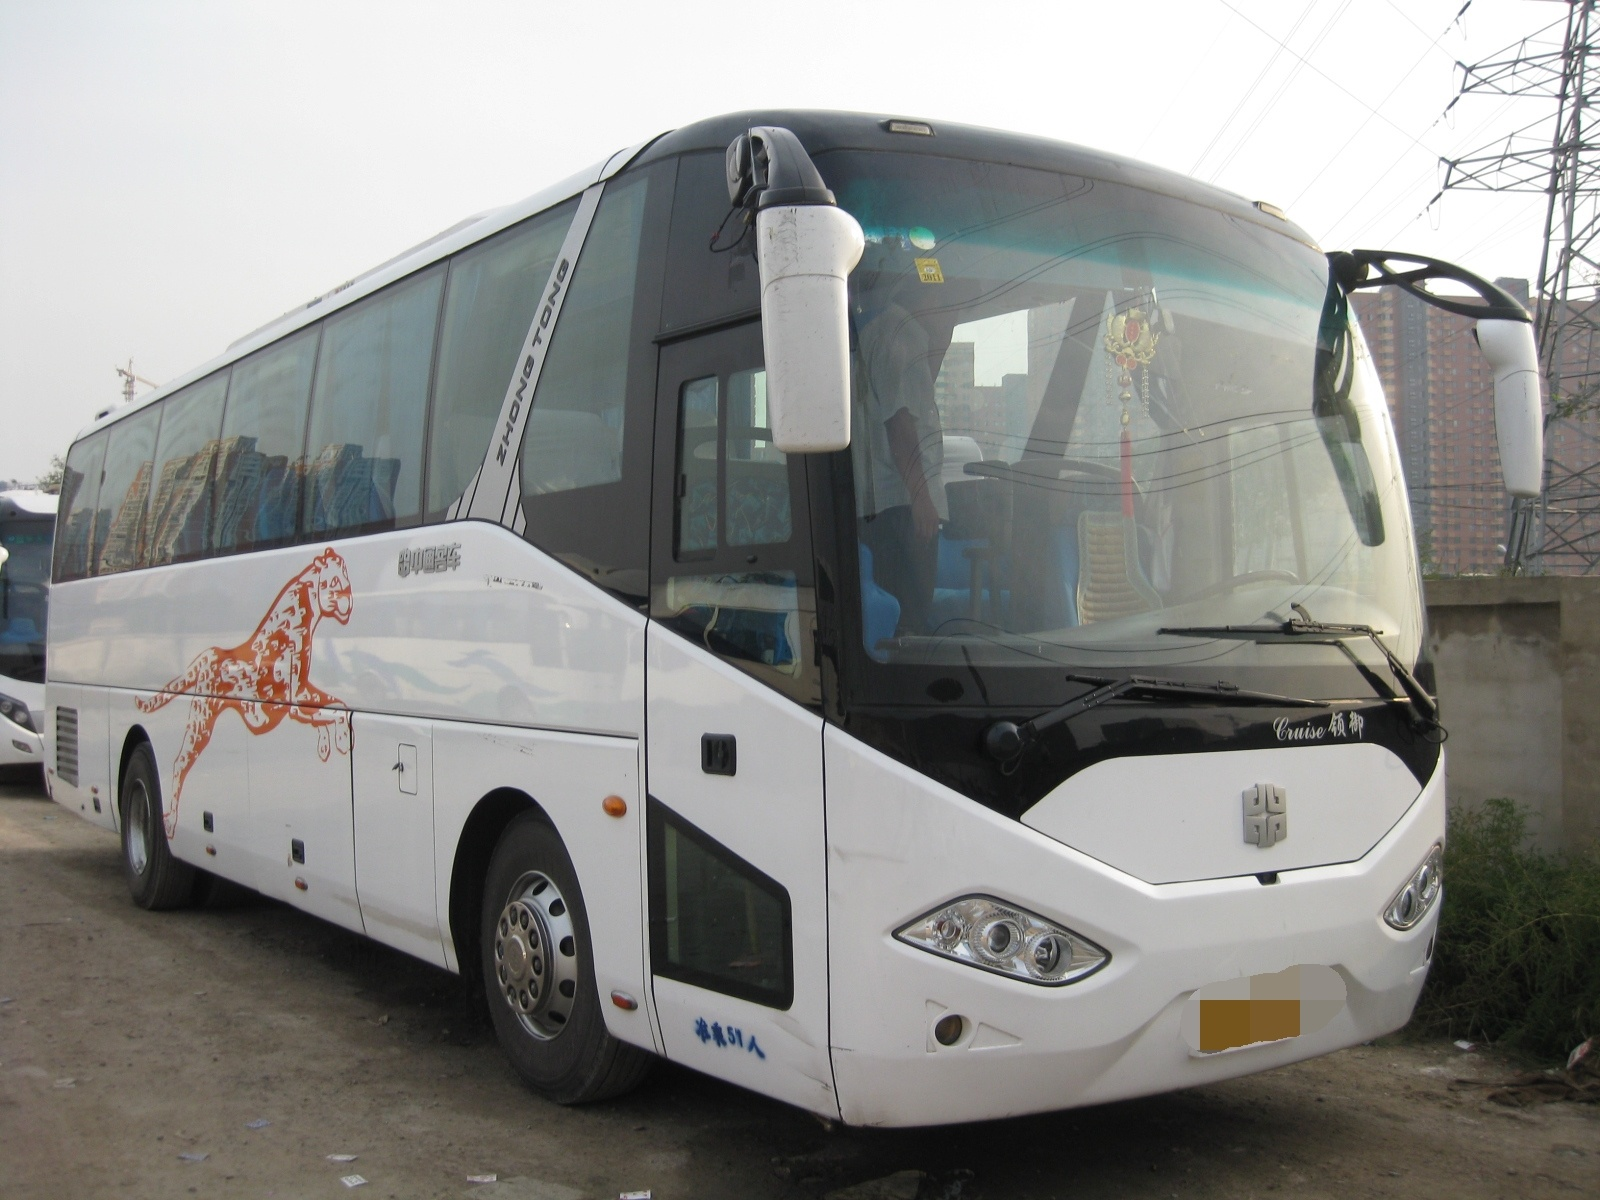bus: (47, 174, 1487, 1121)
